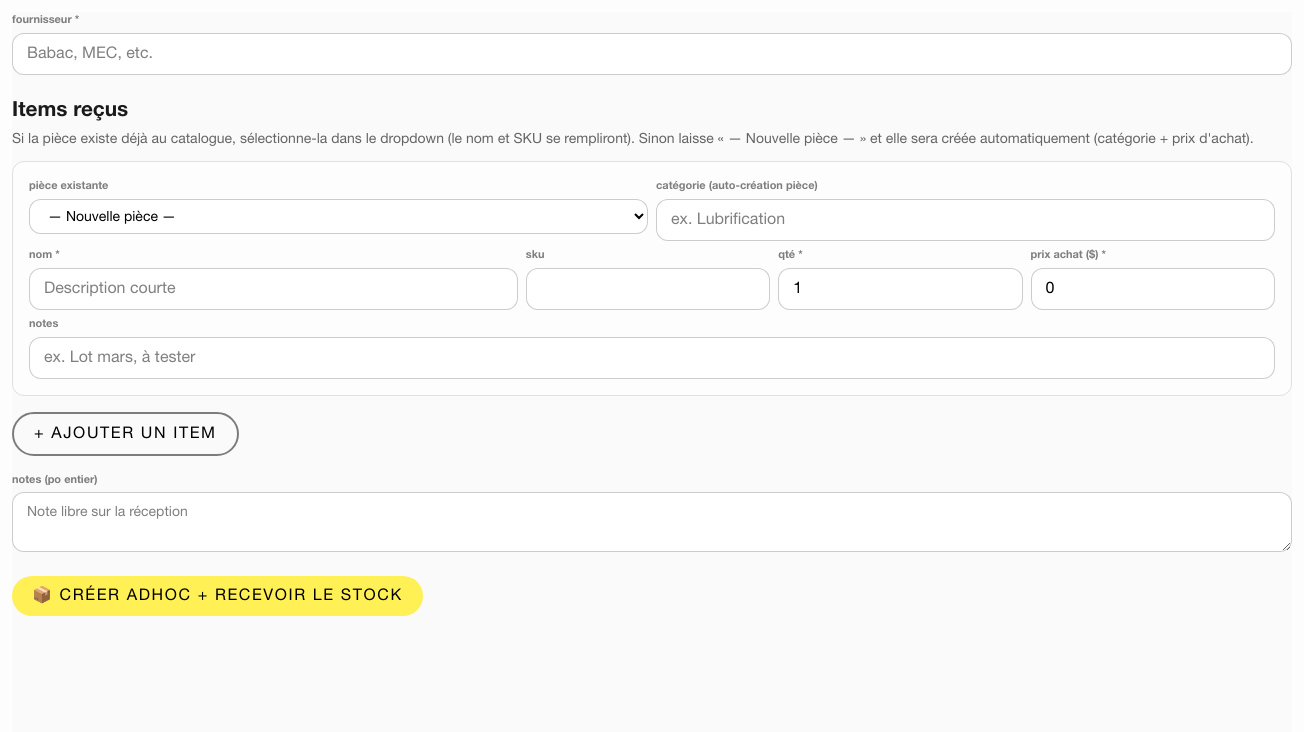
Test: AdhocForm › bouton '+ Ajouter un item' ajoute un 2e item
The image size is (1304, 732).
Click the button "+ Ajouter un item": (125, 434) [12,412,239,456]
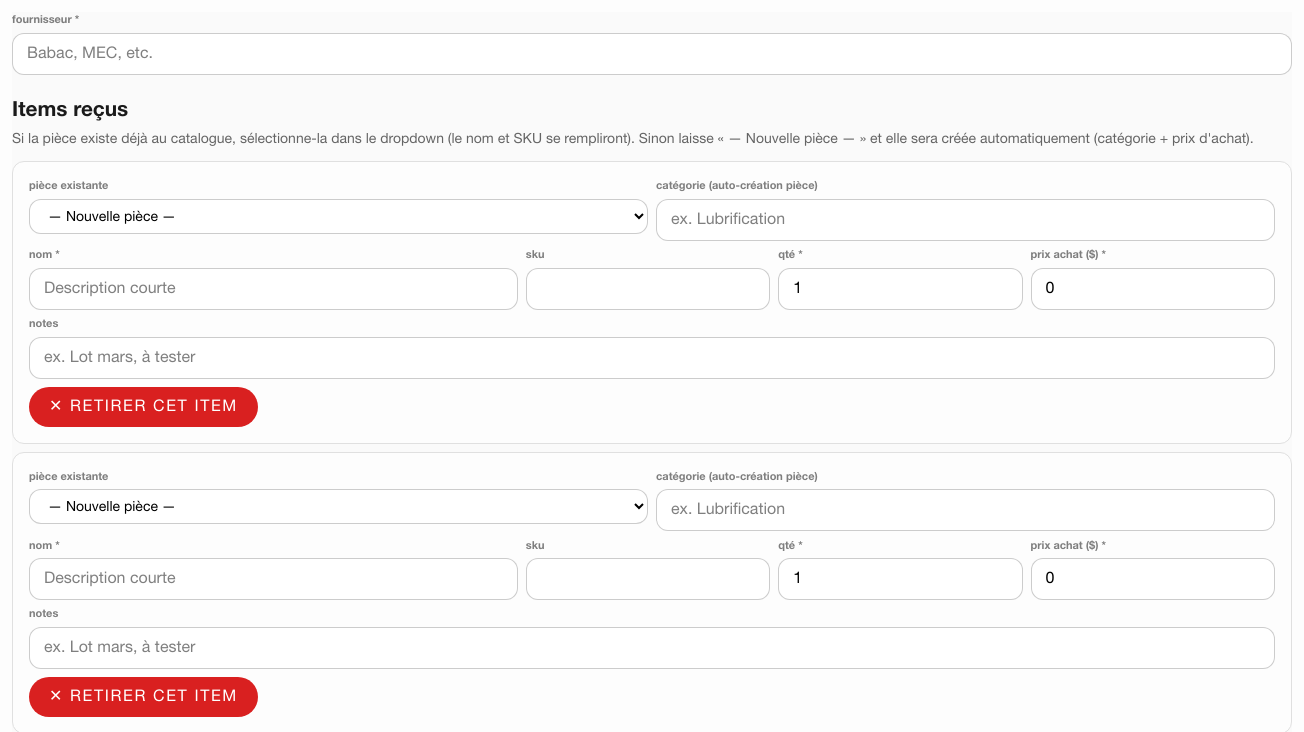
Expected: the number of buttons "✕ Retirer cet item" is 2, [29,387,258,427]; [29,677,258,717]
